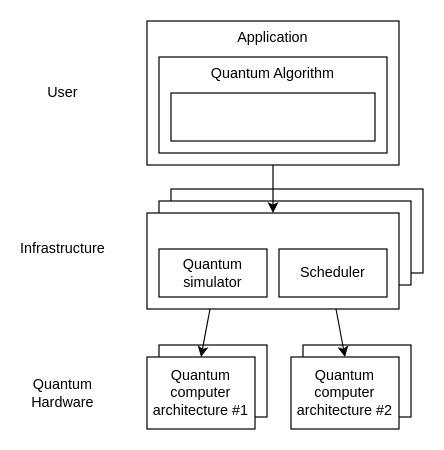
This 444x450 diagram has some shape labels left out. Here are the shapes that lost their labels. From the top down, the centre of each, then its label:
At (x=272, y=116): "Quantum SDK".
At (x=272, y=260): "Computing provider".
